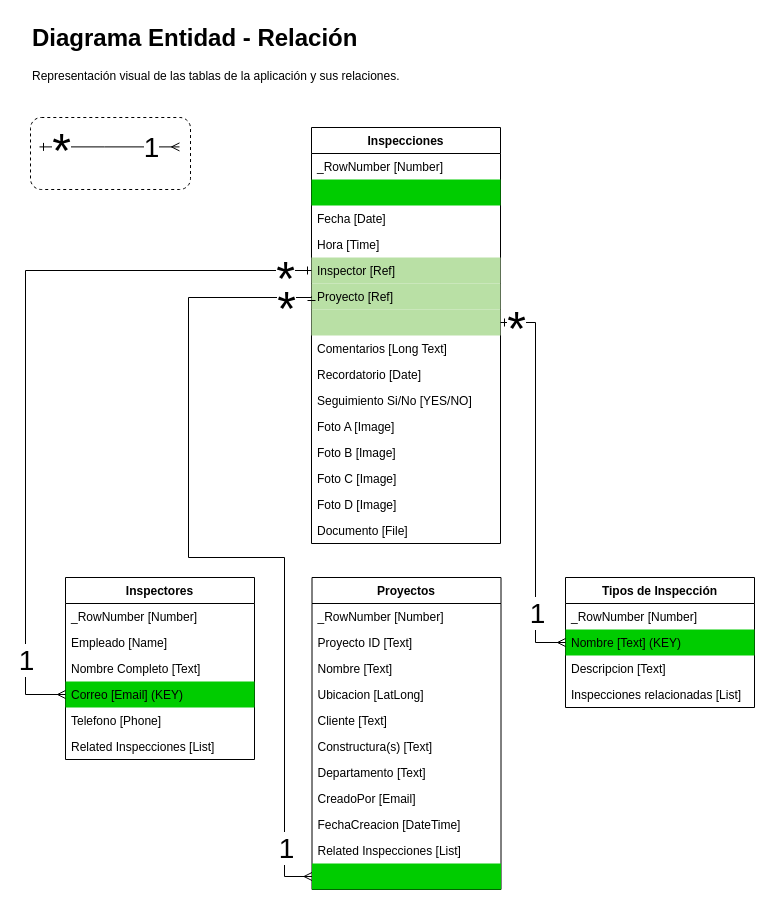
Image size: 772x909. Some labels were removed from this diagram. The centre of each missing label's shape, as x and y in pixels:
_ComputedKey [Text] (KEY): pixel 406 876
ID [Text] (KEY): pixel 405 192
Muchos a uno: pixel 110 153
Tipo [Ref]: pixel 405 322
